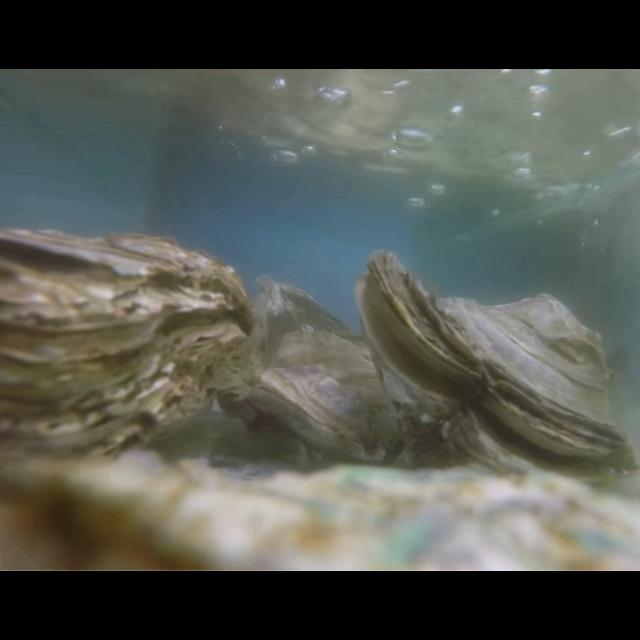Oyster-Closed: (0, 451, 640, 571), (0, 228, 254, 474), (254, 270, 370, 360)
Oyster-Open: (354, 252, 640, 492), (258, 330, 422, 470)
